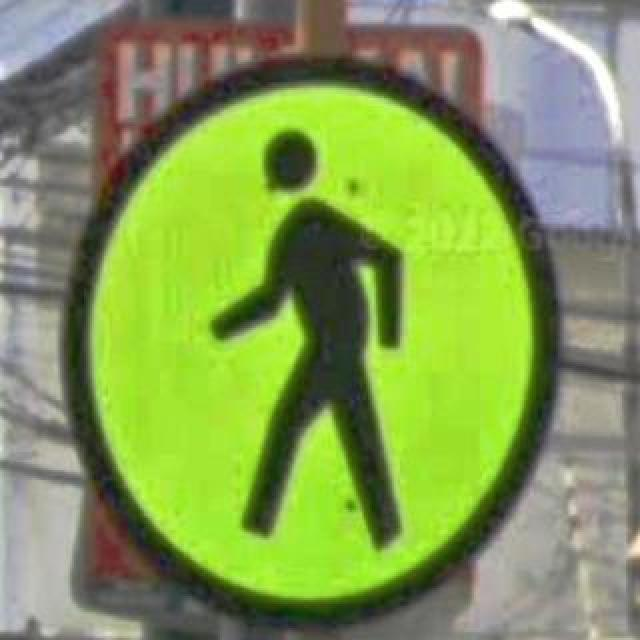pedestrian crossing: (60, 52, 564, 638)
